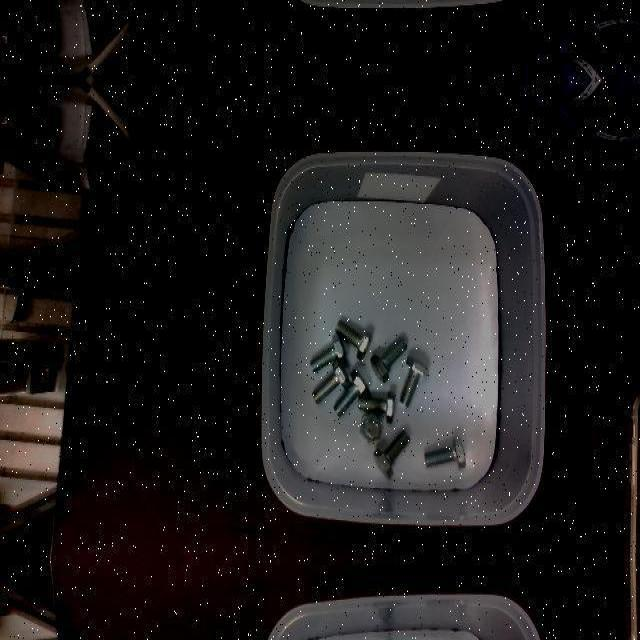screw: (333, 368, 370, 416), (373, 430, 410, 478), (311, 359, 349, 405), (370, 336, 407, 382), (335, 318, 372, 360), (399, 356, 429, 406), (310, 332, 346, 372), (423, 435, 465, 469), (357, 390, 395, 424), (359, 411, 383, 443)
